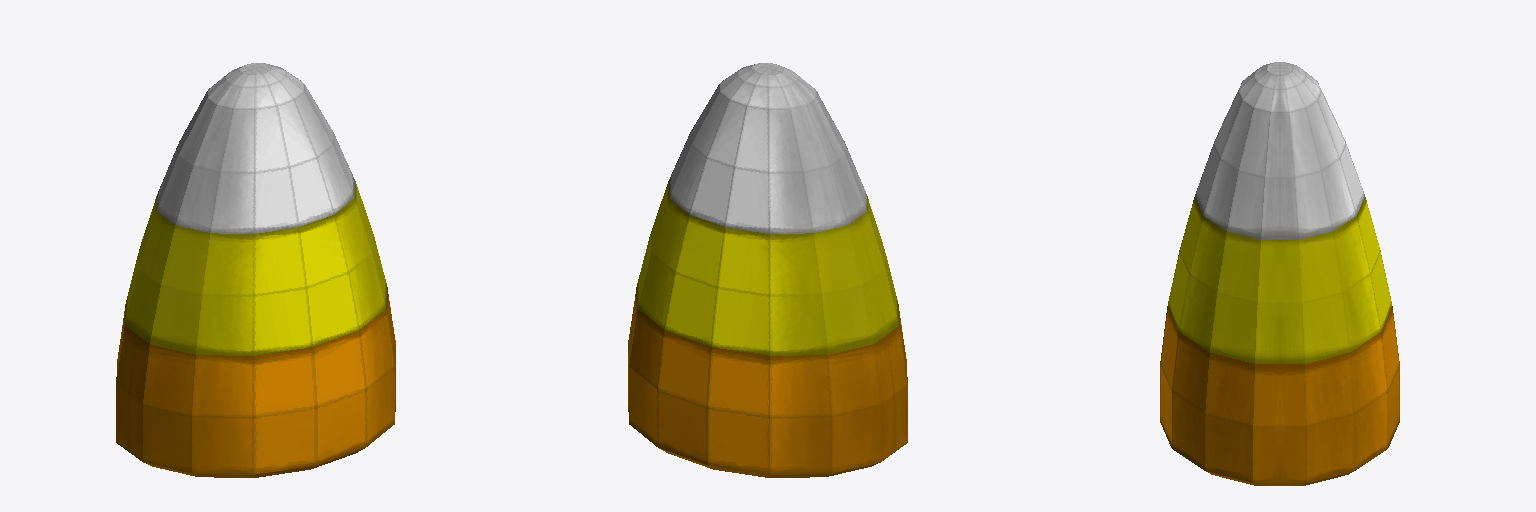
3 views of the same model, side by side, from view 1: azimuth 30°, elevation 25°; view 2: azimuth 150°, elevation 25°; view 3: azimuth 270°, elevation 25° (orthographic).
Visible parts, largest first — view 1: Cylinder.004_Cylinder.005; view 2: Cylinder.004_Cylinder.005; view 3: Cylinder.004_Cylinder.005.
Part boxes in pixels (x1,y1,x2,y2): Cylinder.004_Cylinder.005: (116, 63, 395, 477); Cylinder.004_Cylinder.005: (628, 63, 907, 477); Cylinder.004_Cylinder.005: (1160, 62, 1399, 485).
Bounding box in the file's own units: 2.67 × 3.77 × 2.19.
1 materials, 1 textured.